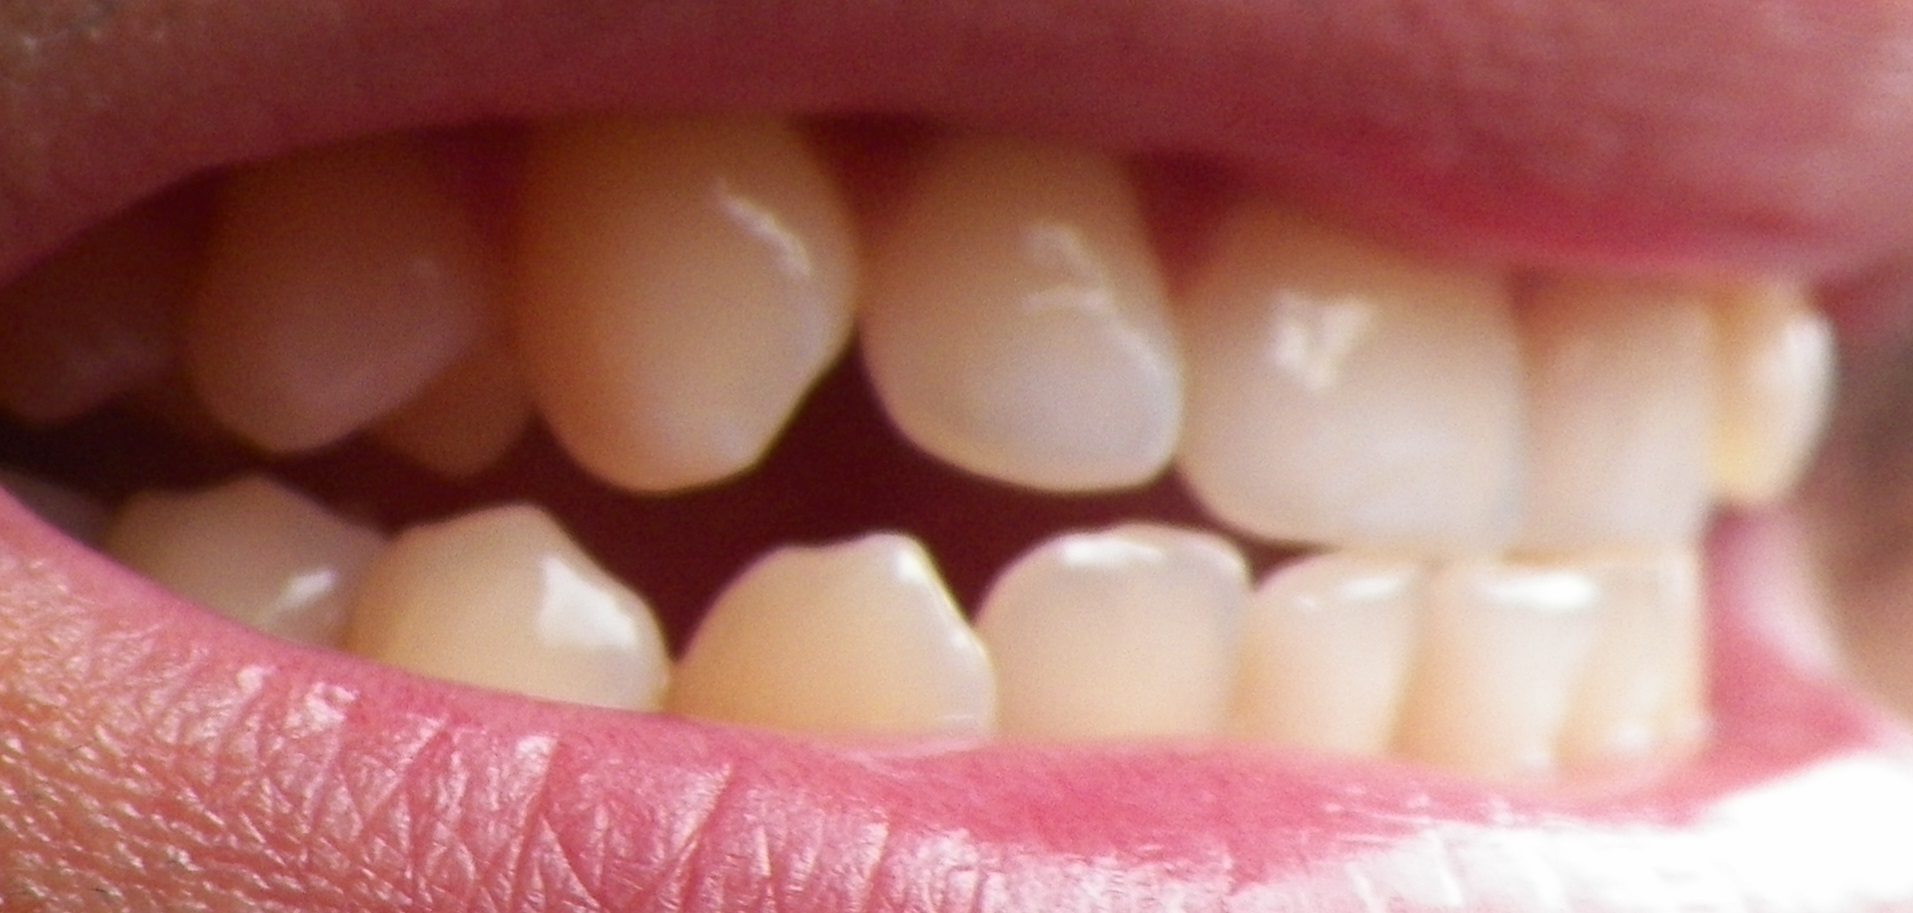boca: (20, 154, 1842, 774)
